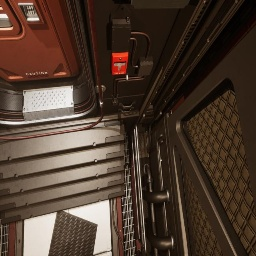FireAlarm ,: (111, 52, 129, 75)
